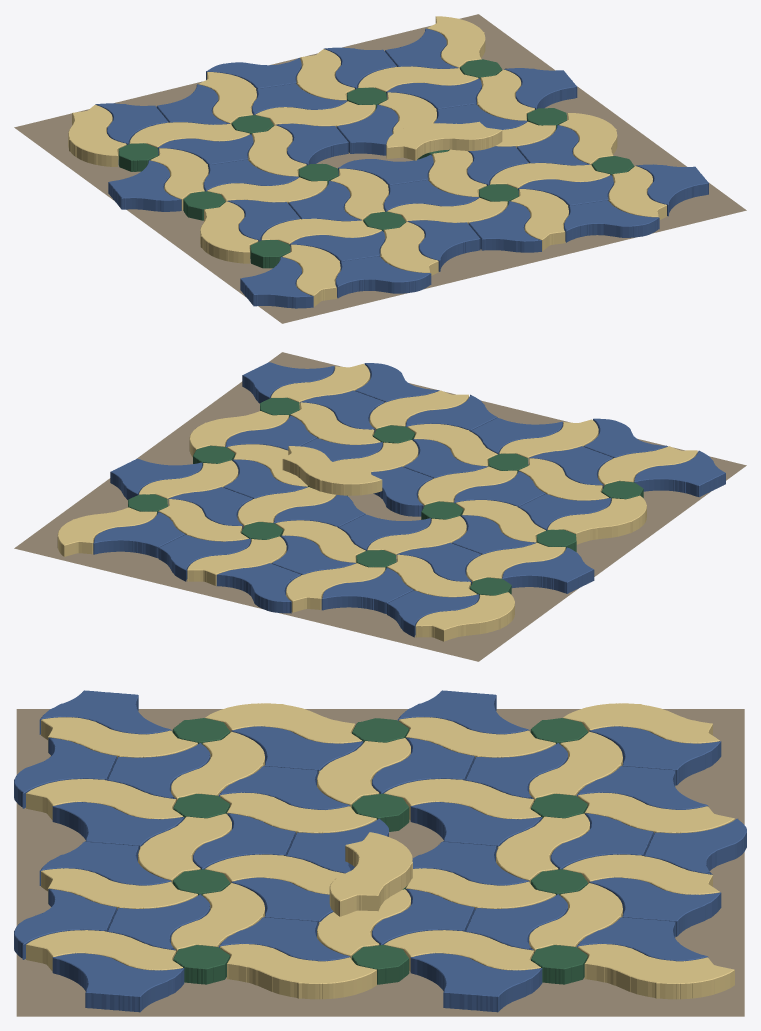
Rendered from terilgan.glb.
3 renders of one model, top to bottom at view 1: azimuth 30°, elevation 25°; view 2: azimuth 150°, elevation 25°; view 3: azimuth 270°, elevation 25°, orthographic. The views are drawn at different scales.
Parts seen in each view (by area): view 1: qum, t.029, t.011, t.025, t.007, t, t.040, t.014, t.002, t.008, t.022, t.003 (+53 smaller); view 2: qum, t.029, t.040, t.007, t.014, t, t.063, t.042, t.057, t.064, t.061, t.054 (+53 smaller); view 3: qum, t.064, t.049, t.016, t.050, t.029, t.015, t.001, t.058, t.043, t.022, t.008 (+53 smaller).
Part boxes in pixels (x1=…): qum: x1=14, y1=14, x2=746, y2=323; t.029: x1=386, y1=121, x2=502, y2=160; t.011: x1=335, y1=256, x2=431, y2=298; t.025: x1=564, y1=200, x2=659, y2=242; t.007: x1=200, y1=201, x2=258, y2=263; t: x1=240, y1=257, x2=313, y2=308; t.040: x1=68, y1=105, x2=126, y2=166; t.014: x1=108, y1=160, x2=181, y2=211; t.002: x1=468, y1=201, x2=541, y2=252; t.008: x1=282, y1=244, x2=340, y2=306; t.022: x1=510, y1=189, x2=568, y2=251; t.003: x1=407, y1=220, x2=480, y2=271; qum: x1=14, y1=352, x2=746, y2=661; t.029: x1=282, y1=446, x2=382, y2=495; t.040: x1=415, y1=592, x2=514, y2=641; t.007: x1=547, y1=495, x2=646, y2=544; t.014: x1=502, y1=547, x2=594, y2=593; t: x1=634, y1=450, x2=725, y2=497; t.063: x1=216, y1=563, x2=300, y2=613; t.042: x1=321, y1=567, x2=413, y2=613; t.057: x1=93, y1=511, x2=185, y2=558; t.064: x1=57, y1=507, x2=156, y2=556; t.061: x1=286, y1=563, x2=385, y2=612; t.054: x1=187, y1=536, x2=286, y2=585; qum: x1=16, y1=709, x2=744, y2=1016; t.064: x1=577, y1=944, x2=734, y2=999; t.049: x1=220, y1=944, x2=376, y2=999; t.016: x1=52, y1=953, x2=184, y2=1012; t.050: x1=410, y1=953, x2=542, y2=1012; t.029: x1=329, y1=832, x2=412, y2=916; t.015: x1=26, y1=930, x2=182, y2=971; t.001: x1=26, y1=779, x2=183, y2=820; t.058: x1=589, y1=877, x2=721, y2=936; t.043: x1=589, y1=726, x2=721, y2=785; t.022: x1=41, y1=868, x2=197, y2=909; t.008: x1=41, y1=717, x2=197, y2=758.
Size of the model in its own units: 1.67 by 0.082 by 1.67.
